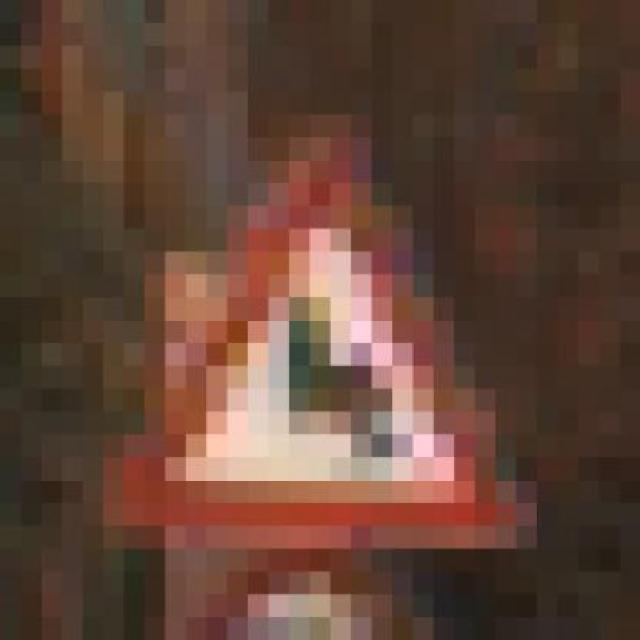Left Zig Zag Traffic: (103, 137, 557, 572)
